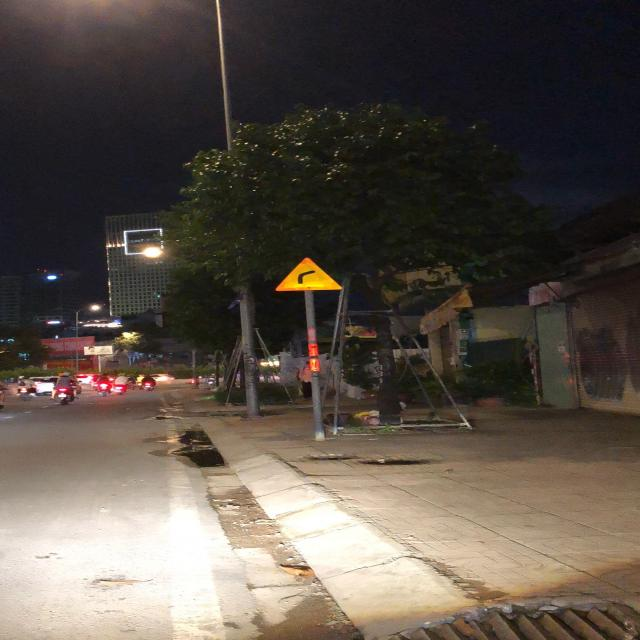Bien bao cho ngoat nguy hiem: (270, 254, 357, 293)
